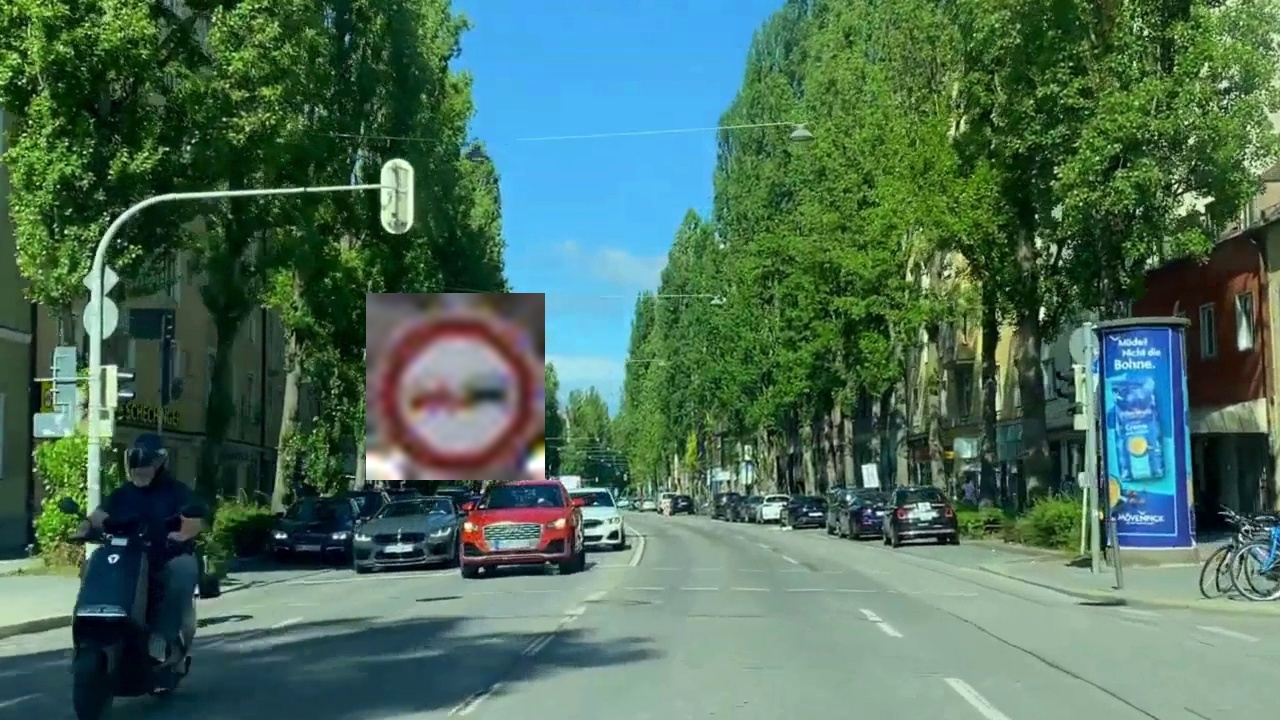No passing: (366, 293, 545, 480)
